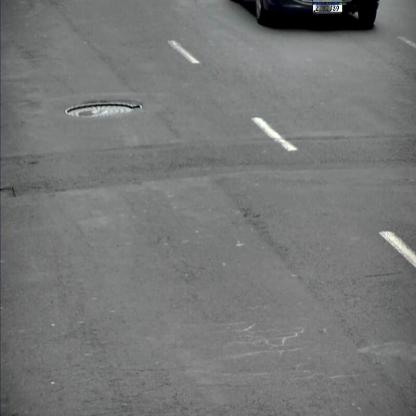PlacaM: (312, 2, 342, 13)
